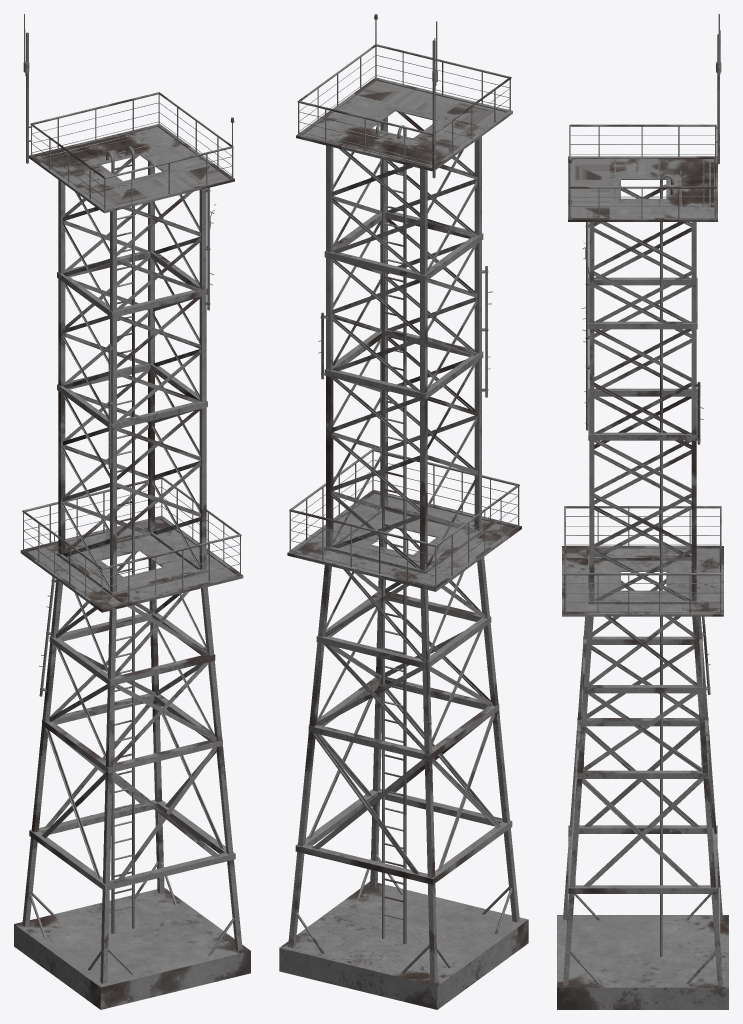
The model's file is 01 Tower.fbx.
The picture shows the model from 3 angles, left to right: view 1: azimuth 30°, elevation 25°; view 2: azimuth 150°, elevation 25°; view 3: azimuth 270°, elevation 25°; orthographic projection. The views are drawn at different scales.
Parts seen in each view (by area): view 1: Tower, Tower.001; view 2: Tower, Tower.001; view 3: Tower, Tower.001.
Part boxes in pixels (<box>): Tower: <box>14,155,250,1009</box>; Tower.001: <box>20,14,243,933</box>; Tower: <box>279,111,528,1009</box>; Tower.001: <box>287,14,521,943</box>; Tower: <box>557,186,728,1009</box>; Tower.001: <box>562,14,723,956</box>.
Bounding box in the file's own units: 28000 × 166468 × 28000.
2 materials, 2 textured.
